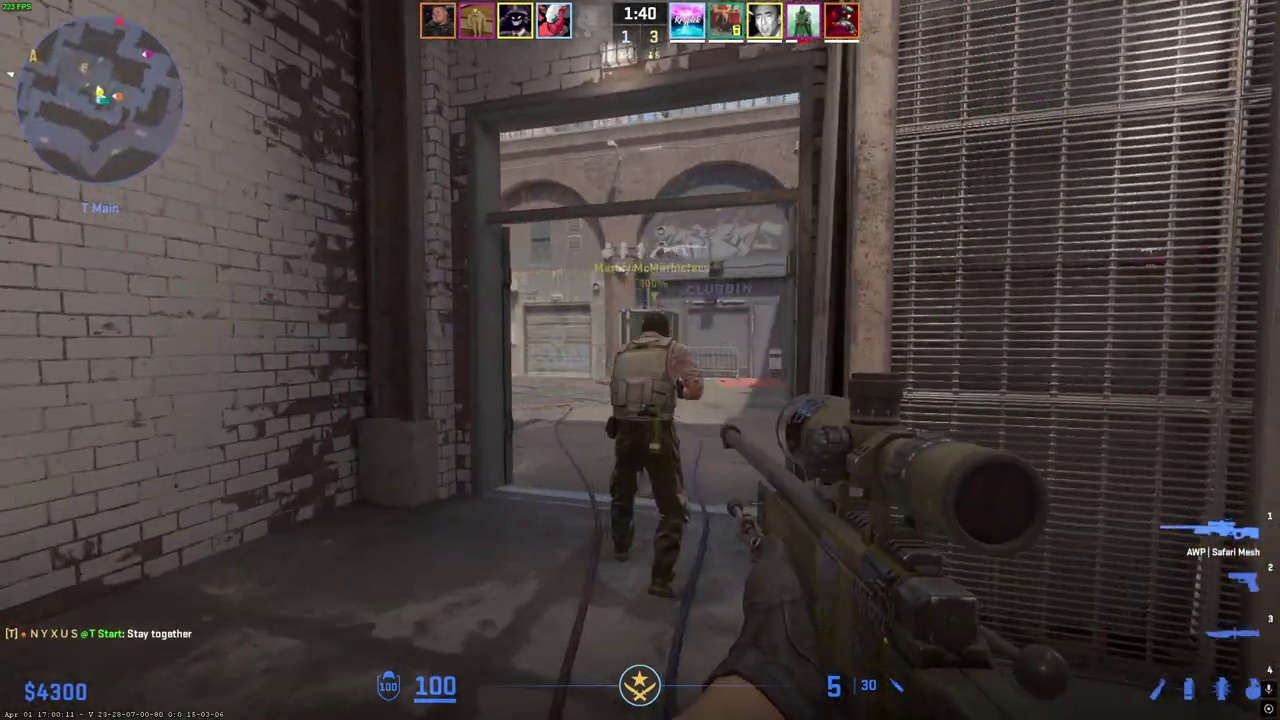Terrorist: (597, 309, 705, 600)
